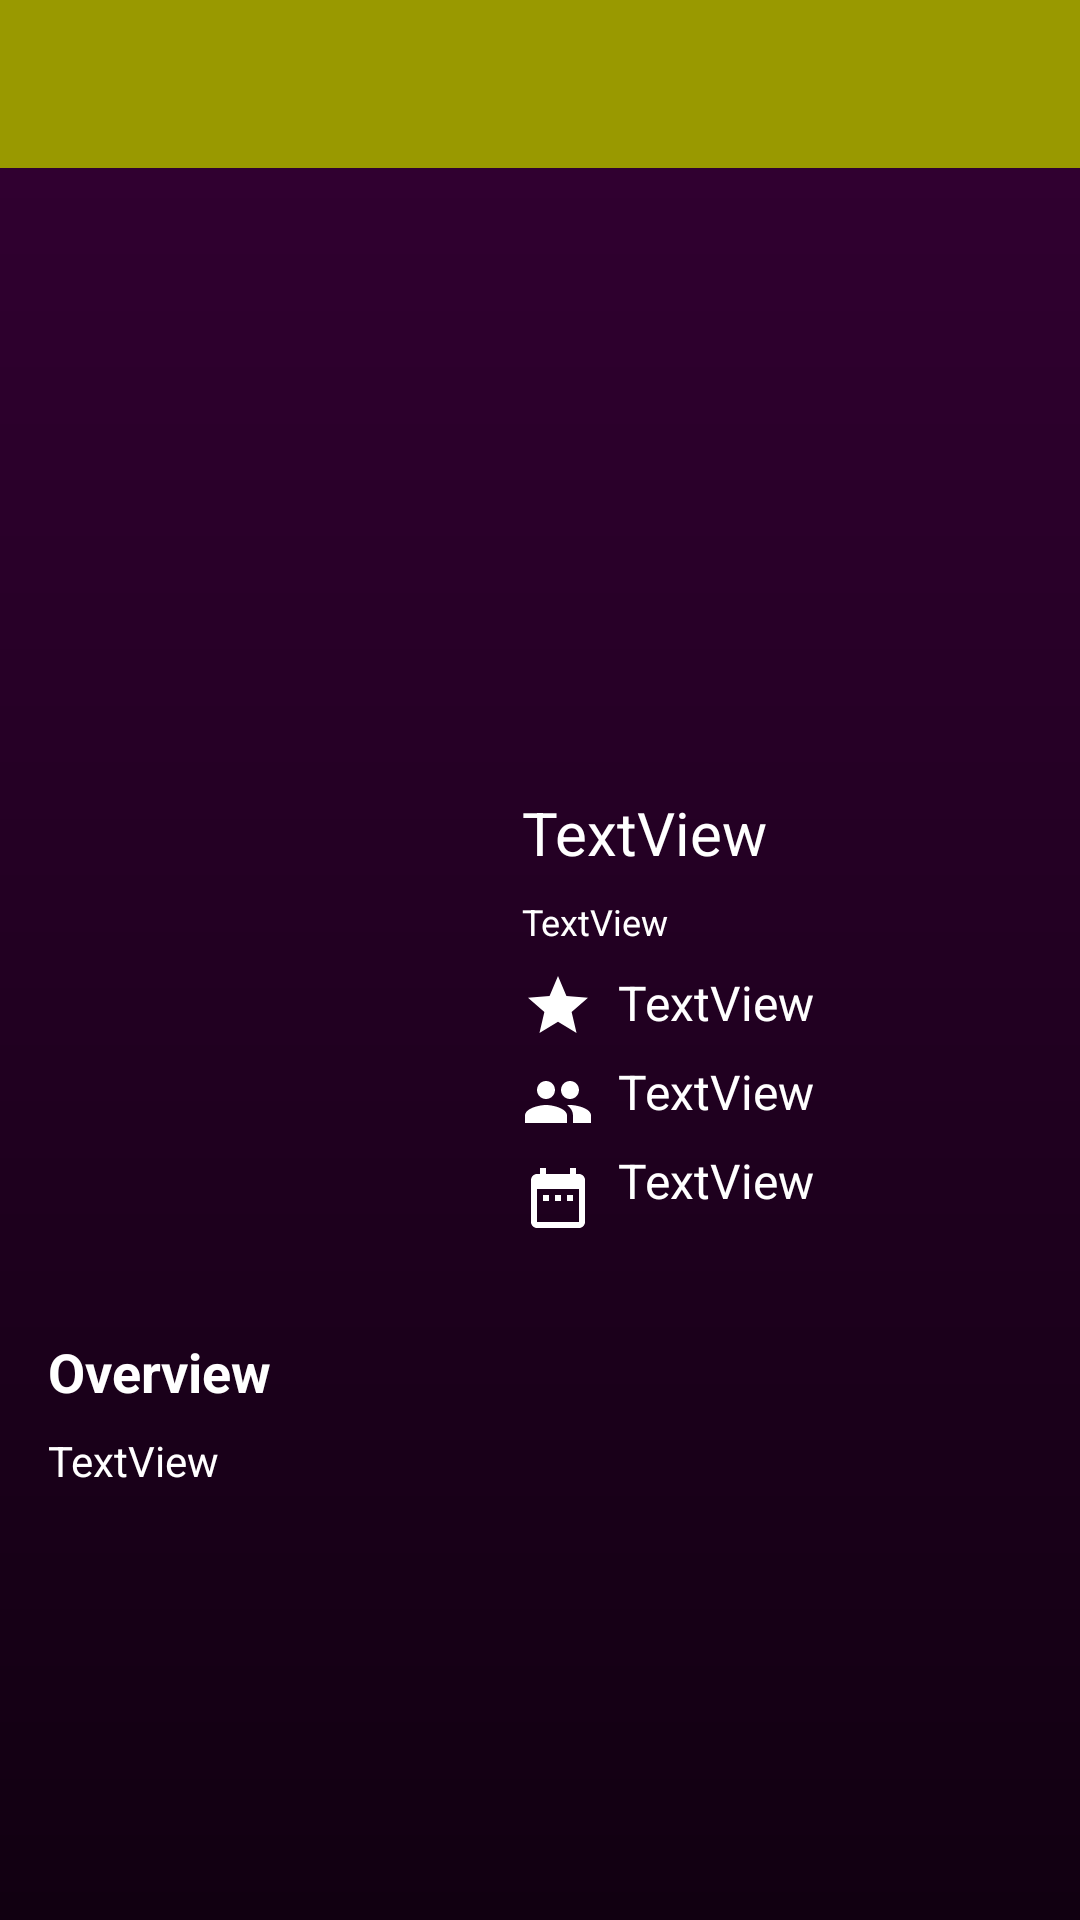

Where to tap for icons on this 1080px x 1920px app screen, as (x,y):
rating: (558,1004)
release: (558,1198)
vote: (558,1102)
